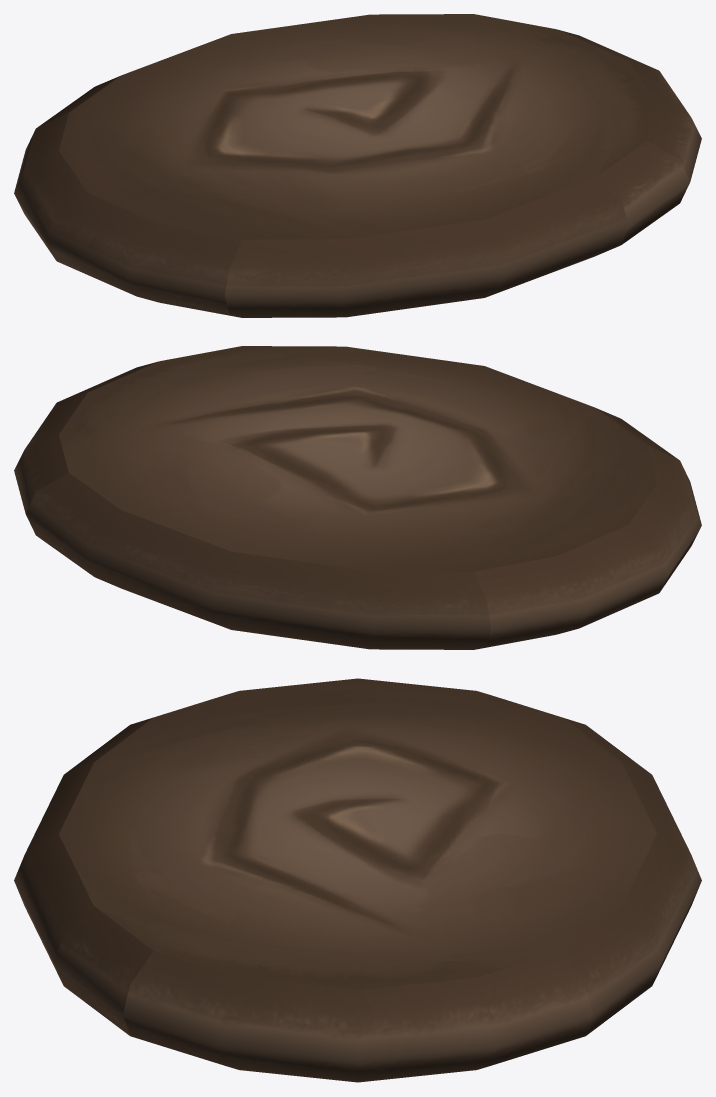
Rendered from flat_rock.fbx.
3 views of the same model, one above another, from view 1: azimuth 30°, elevation 25°; view 2: azimuth 150°, elevation 25°; view 3: azimuth 270°, elevation 25° (orthographic). The views are drawn at different scales.
Parts seen in each view (by area): view 1: flat_rock; view 2: flat_rock; view 3: flat_rock.
Part boxes in pixels (<box>): flat_rock: <box>14,14,701,317</box>; flat_rock: <box>14,346,701,649</box>; flat_rock: <box>14,678,701,1082</box>.
Bounding box in the file's own units: 1.49 × 0.2642 × 1.21.
